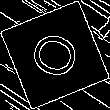O_SE: (23, 25, 87, 85)
